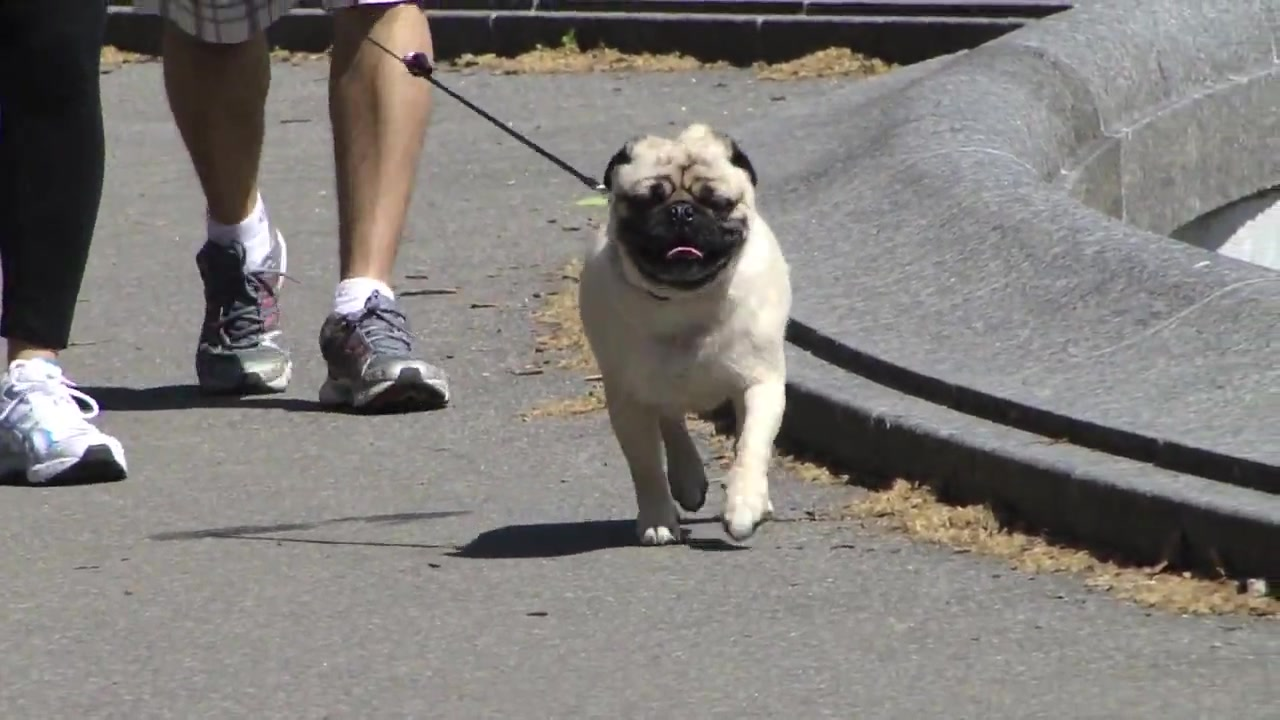dog: (577, 120, 795, 545)
